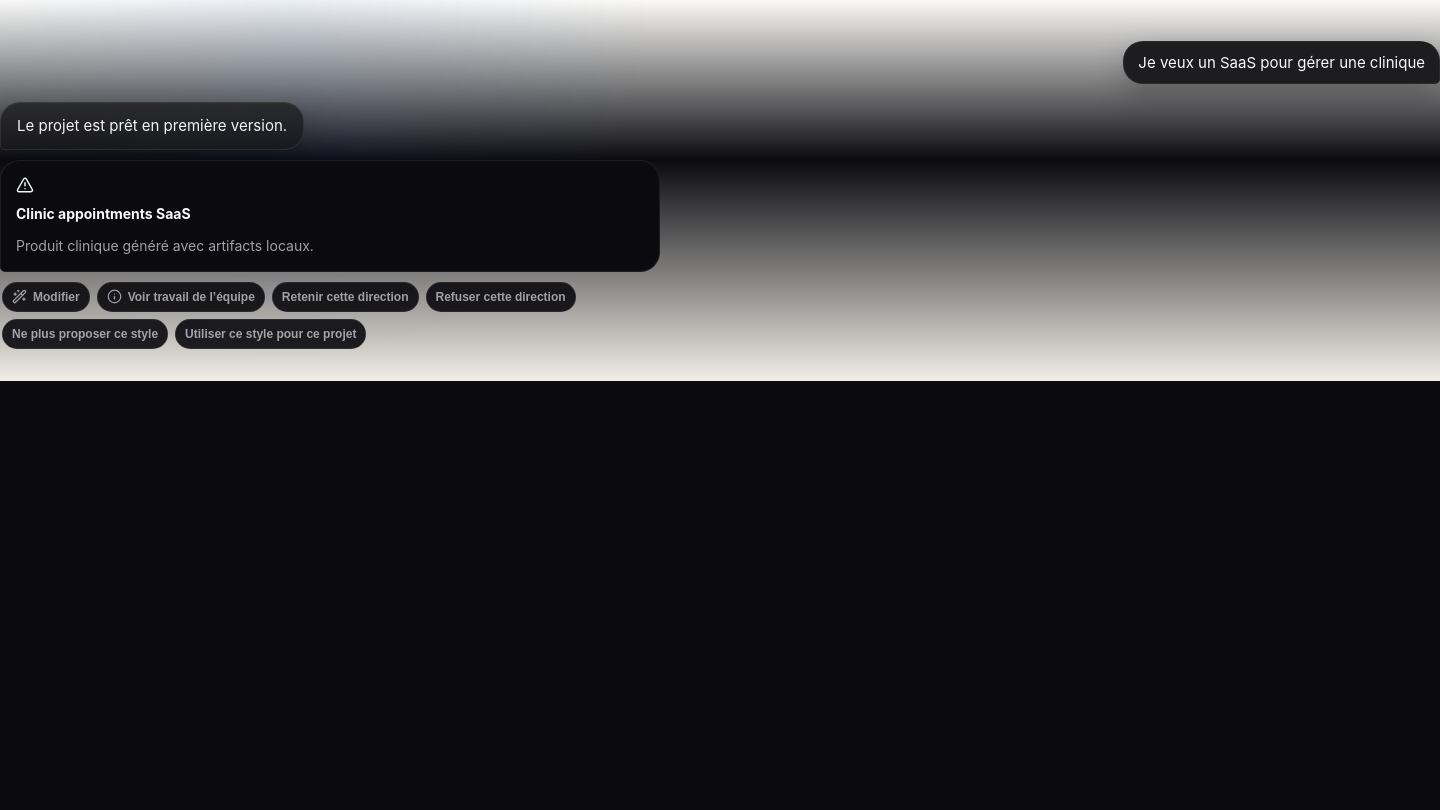
Test: CEO command components › shows quality report only in expert mode
Expected: the text "Mode expert" is not shown
Click the button "Voir travail de l’équipe".
click(181, 297)  # box top-left (97, 282), bottom-right (265, 312)
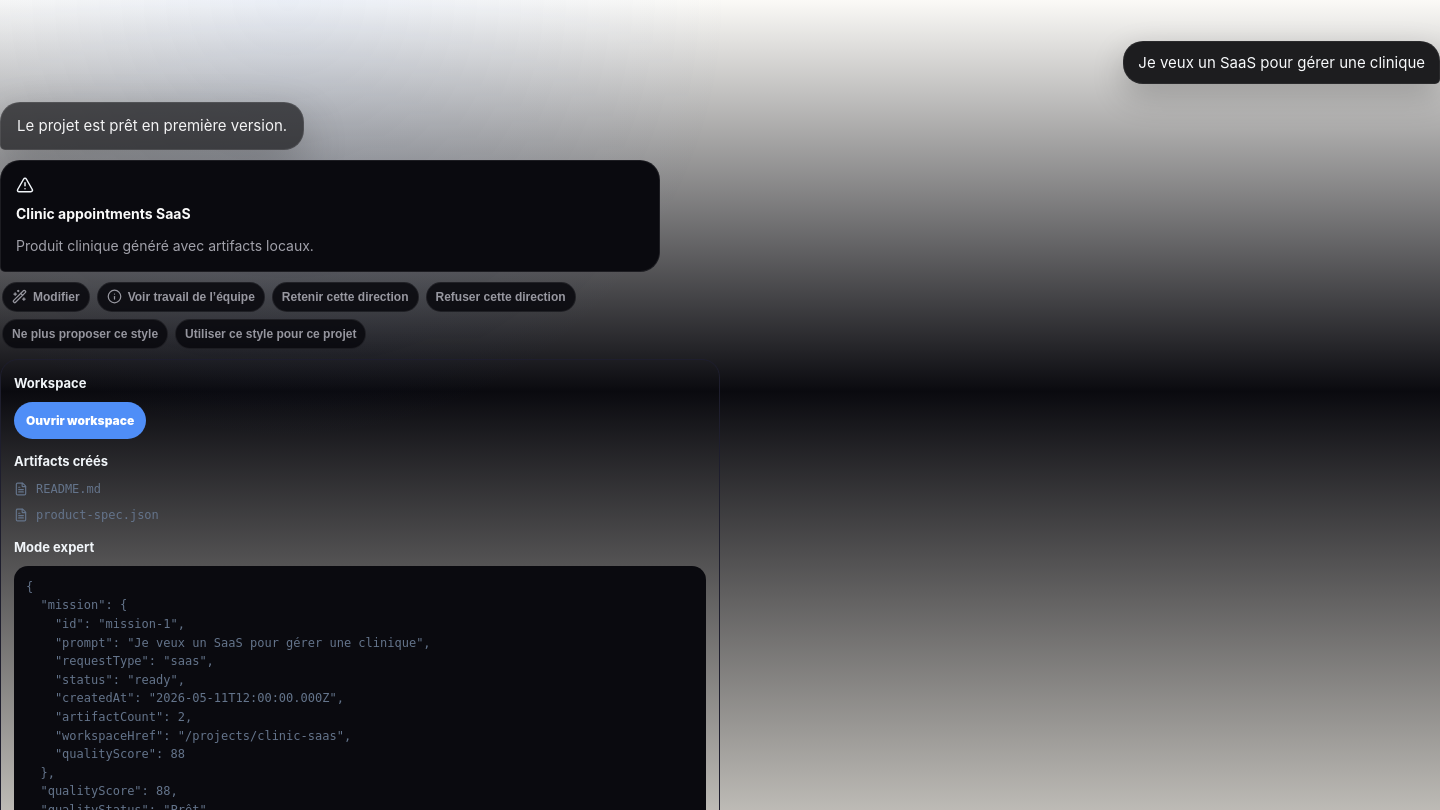
Expected: the text "Mode expert" is shown, top-left (14, 539), bottom-right (94, 555)
